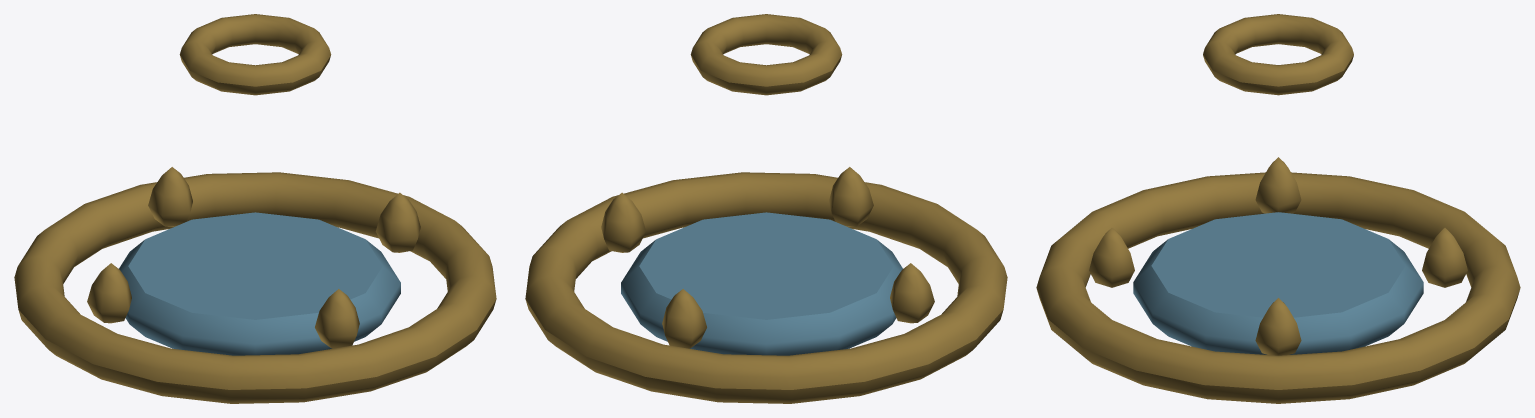
File: star_pendant.obj
3 renders of one model, left to right at view 1: azimuth 30°, elevation 25°; view 2: azimuth 150°, elevation 25°; view 3: azimuth 270°, elevation 25°, orthographic.
Parts seen in each view (by area): view 1: star_pendant; view 2: star_pendant; view 3: star_pendant.
Part boxes in pixels (x1,y1,x2,y2): star_pendant: [14, 14, 496, 403]; star_pendant: [525, 14, 1007, 403]; star_pendant: [1036, 14, 1520, 403].
Size of the model in its own units: 1.6 by 0.98 by 1.6.
